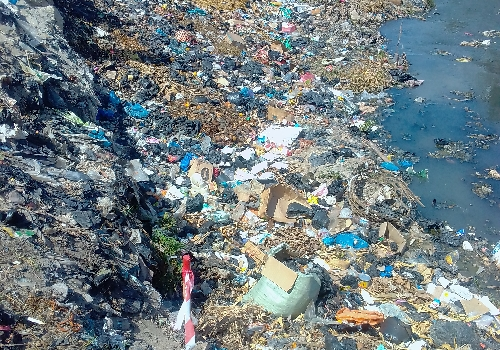trash: (99, 8, 495, 346)
